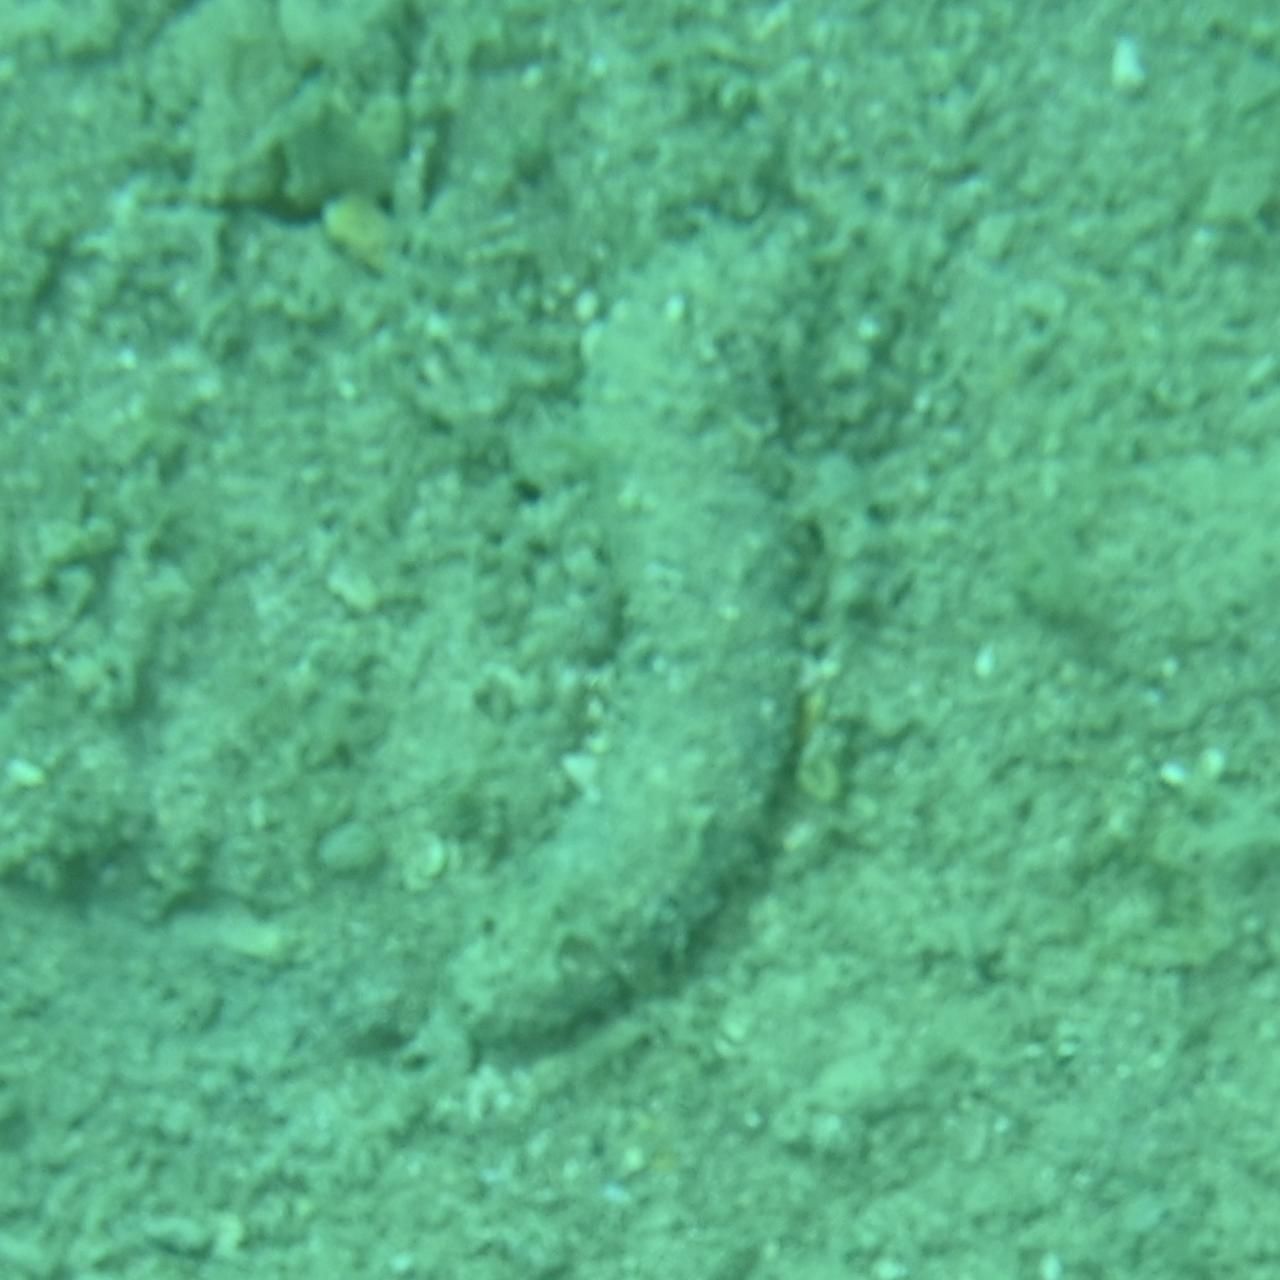Holothuria tubulosa: (449, 219, 831, 1061)
